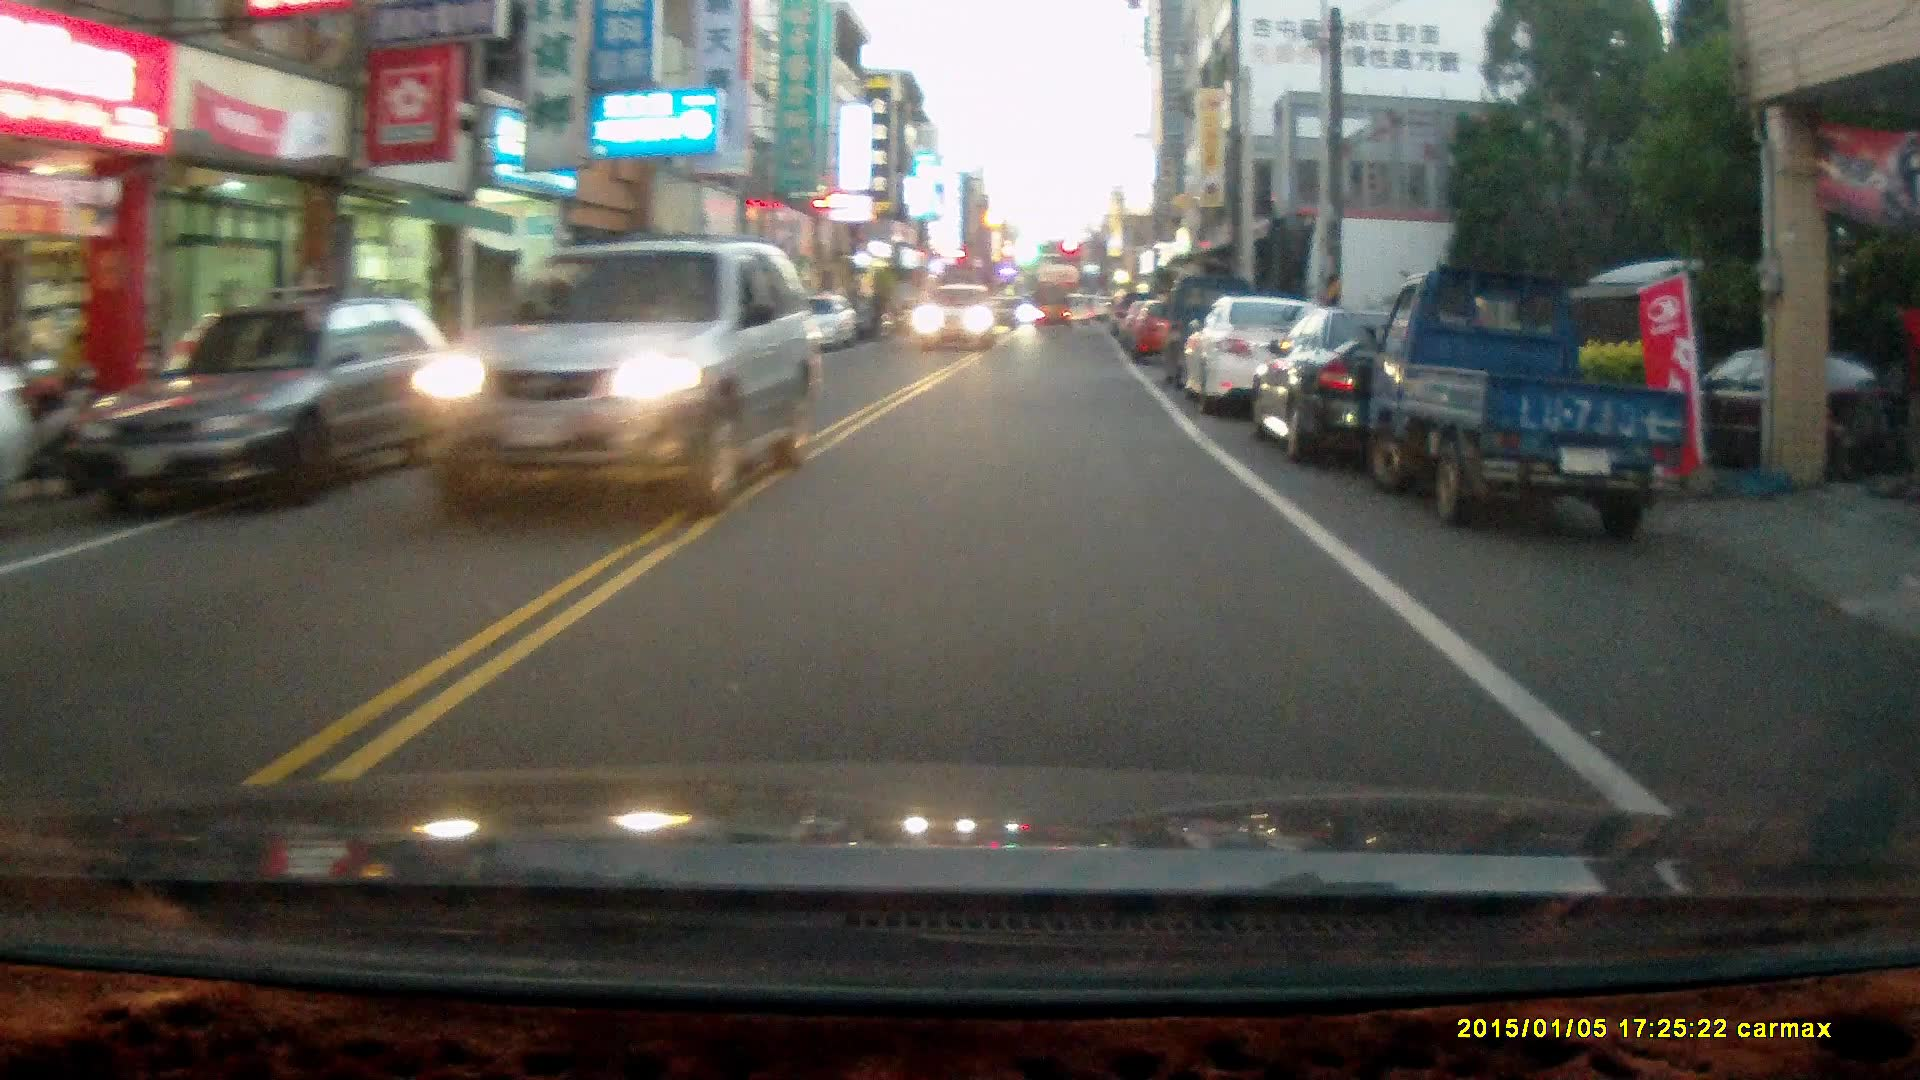pedestrian: (1869, 298, 1920, 505)
vehicle: (400, 235, 834, 517), (1366, 271, 1701, 549), (77, 287, 475, 513), (1255, 309, 1515, 471), (1176, 300, 1342, 418), (916, 286, 999, 358), (1028, 289, 1072, 338)
